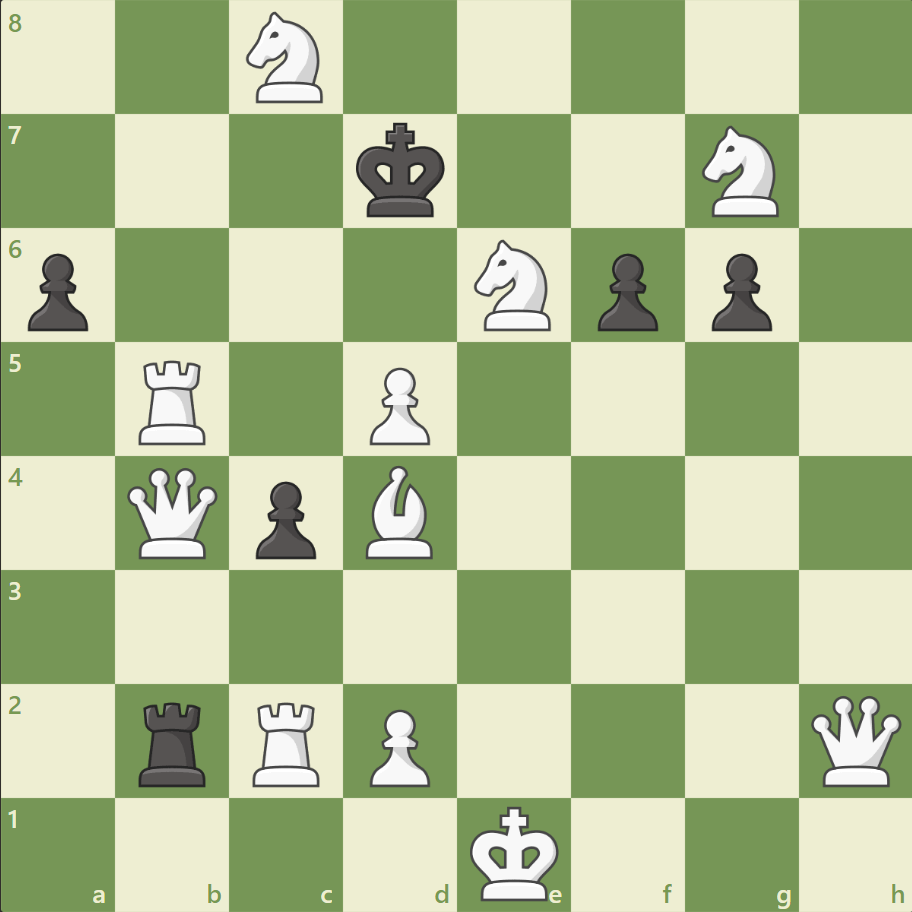B: (358, 460, 442, 563)
K: (465, 798, 565, 906)
N: (238, 7, 335, 110), (465, 234, 562, 337), (692, 121, 789, 223)
P: (361, 359, 435, 450), (361, 700, 435, 791)
Q: (124, 463, 223, 562), (805, 690, 904, 789)
R: (246, 693, 329, 790), (133, 352, 215, 449)
k: (351, 117, 451, 225)
p: (20, 246, 95, 337), (701, 246, 776, 337), (247, 473, 322, 564), (588, 246, 662, 337)
r: (133, 693, 215, 790)
